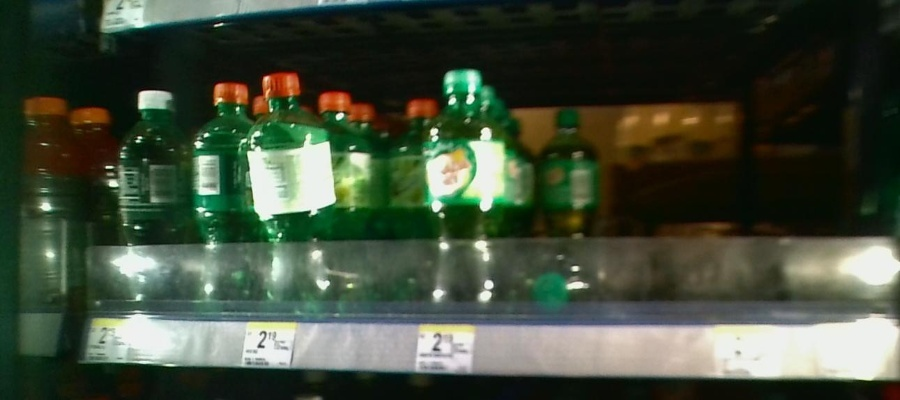bottle: (427, 69, 503, 311), (253, 70, 332, 297), (115, 81, 184, 294), (185, 75, 250, 294), (539, 100, 600, 298), (381, 87, 425, 300)
